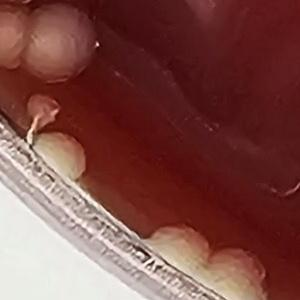colony: (21, 0, 110, 94), (135, 215, 216, 284), (26, 129, 98, 204), (203, 241, 284, 300), (0, 0, 41, 75), (20, 89, 64, 135)
